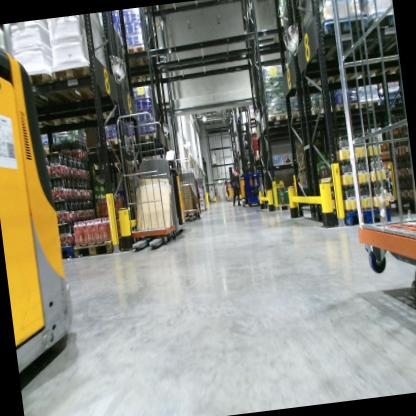forklift: (222, 88, 269, 206)
pallet: (301, 16, 372, 73), (50, 57, 111, 110), (18, 66, 79, 118), (356, 9, 399, 74), (325, 204, 393, 234), (70, 230, 136, 258), (117, 36, 156, 75), (35, 105, 78, 134), (63, 102, 114, 126), (47, 240, 78, 268), (262, 108, 294, 133), (282, 104, 314, 127), (304, 103, 335, 124), (131, 62, 158, 86), (333, 99, 361, 119), (136, 131, 164, 149), (94, 134, 120, 153), (358, 94, 382, 114), (117, 132, 140, 150), (378, 92, 402, 108)
pallet_truck: (0, 19, 89, 402)
